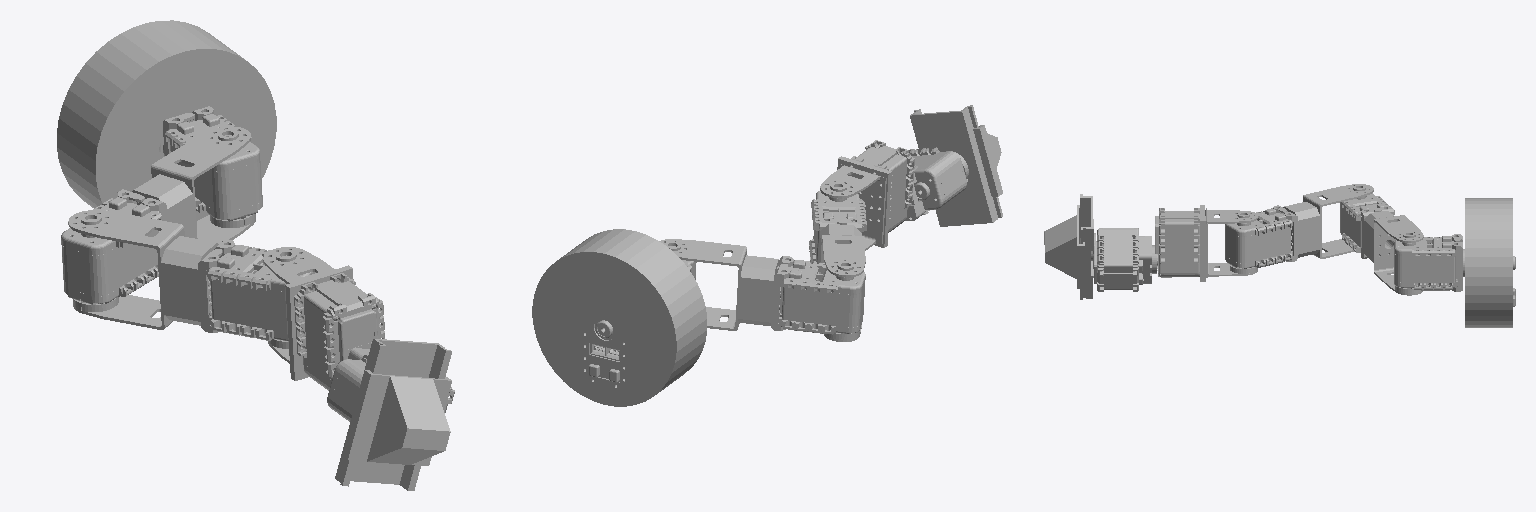
robot.urdf — HUSSEIN:
<?xml version="1.0" encoding="utf-8"?>
<!-- This URDF was automatically created by SolidWorks to URDF Exporter! Originally created by Stephen Brawner (brawner@gmail.com) 
     Commit Version: 1.6.0-4-g7f85cfe  Build Version: 1.6.7995.38578
     For more information, please see http://wiki.ros.org/sw_urdf_exporter -->
<robot
  name="HUSSEIN">
  <link
    name="BASE">
    <inertial>
      <origin
        xyz="0.0021013 -0.0085471 -0.018871"
        rpy="0 0 0" />
      <mass
        value="0.06306" />
      <inertia
        ixx="3.4483E-05"
        ixy="2.394E-08"
        ixz="-7.0995E-09"
        iyy="1.5289E-05"
        iyz="3.1071E-07"
        izz="3.2674E-05" />
    </inertial>
    <visual>
      <origin
        xyz="0 0 0"
        rpy="0 0 0" />
      <geometry>
        <mesh
          filename="package://HUSSEIN/meshes/BASE.STL" />
      </geometry>
      <material
        name="">
        <color
          rgba="0.75294 0.75294 0.75294 1" />
      </material>
    </visual>
    <collision>
      <origin
        xyz="0 0 0"
        rpy="0 0 0" />
      <geometry>
        <mesh
          filename="package://HUSSEIN/meshes/BASE.STL" />
      </geometry>
    </collision>
  </link>
  <link
    name="SHOULDER">
    <inertial>
      <origin
        xyz="-2.95779799797177E-05 0.0269115186751801 0.000935763175241329"
        rpy="0 0 0" />
      <mass
        value="0.0459988233867464" />
      <inertia
        ixx="1.19980788881227E-05"
        ixy="-1.01847363113016E-08"
        ixz="1.49862389961452E-09"
        iyy="6.96713132976361E-06"
        iyz="1.90997328451324E-07"
        izz="1.02140084143326E-05" />
    </inertial>
    <visual>
      <origin
        xyz="0 0 0"
        rpy="0 0 0" />
      <geometry>
        <mesh
          filename="package://HUSSEIN/meshes/SHOULDER.STL" />
      </geometry>
      <material
        name="">
        <color
          rgba="0.752941176470588 0.752941176470588 0.752941176470588 1" />
      </material>
    </visual>
    <collision>
      <origin
        xyz="0 0 0"
        rpy="0 0 0" />
      <geometry>
        <mesh
          filename="package://HUSSEIN/meshes/SHOULDER.STL" />
      </geometry>
    </collision>
  </link>
  <joint
    name="BASE"
    type="revolute">
    <origin
      xyz="0 0 0"
      rpy="3.1416 -0.060146 0" />
    <parent
      link="BASE" />
    <child
      link="SHOULDER" />
    <axis
      xyz="0 1 0" />
    <limit
      lower="0"
      upper="5.2"
      effort="0"
      velocity="0" />
  </joint>
  <link
    name="ELBOW">
    <inertial>
      <origin
        xyz="-1.96233611012495E-05 0.0725175856715871 0.000544138908815472"
        rpy="0 0 0" />
      <mass
        value="0.0693327397963304" />
      <inertia
        ixx="2.21022106090659E-05"
        ixy="-1.01848777081293E-08"
        ixz="1.49861061128244E-09"
        iyy="1.4328943296584E-05"
        iyz="1.90997254980255E-07"
        izz="1.53577421041921E-05" />
    </inertial>
    <visual>
      <origin
        xyz="0 0 0"
        rpy="0 0 0" />
      <geometry>
        <mesh
          filename="package://HUSSEIN/meshes/ELBOW.STL" />
      </geometry>
      <material
        name="">
        <color
          rgba="0.752941176470588 0.752941176470588 0.752941176470588 1" />
      </material>
    </visual>
    <collision>
      <origin
        xyz="0 0 0"
        rpy="0 0 0" />
      <geometry>
        <mesh
          filename="package://HUSSEIN/meshes/ELBOW.STL" />
      </geometry>
    </collision>
  </link>
  <joint
    name="SHOULDER"
    type="revolute">
    <origin
      xyz="0 0.0415 0"
      rpy="0 0 1.1965" />
    <parent
      link="SHOULDER" />
    <child
      link="ELBOW" />
    <axis
      xyz="0 0 1" />
    <limit
      lower="0"
      upper="5.2"
      effort="0"
      velocity="0" />
  </joint>
  <link
    name="WRIST_PITCH">
    <inertial>
      <origin
        xyz="-1.96234885152524E-05 0.0725175857065122 0.000544138947018986"
        rpy="0 0 0" />
      <mass
        value="0.0693327400959451" />
      <inertia
        ixx="2.21022105714032E-05"
        ixy="-1.01848186468406E-08"
        ixz="1.49863823799297E-09"
        iyy="1.43289433428069E-05"
        iyz="1.90997217857999E-07"
        izz="1.53577419492212E-05" />
    </inertial>
    <visual>
      <origin
        xyz="0 0 0"
        rpy="0 0 0" />
      <geometry>
        <mesh
          filename="package://HUSSEIN/meshes/WRIST_PITCH.STL" />
      </geometry>
      <material
        name="">
        <color
          rgba="0.752941176470588 0.752941176470588 0.752941176470588 1" />
      </material>
    </visual>
    <collision>
      <origin
        xyz="0 0 0"
        rpy="0 0 0" />
      <geometry>
        <mesh
          filename="package://HUSSEIN/meshes/WRIST_PITCH.STL" />
      </geometry>
    </collision>
  </link>
  <joint
    name="ELBOW"
    type="revolute">
    <origin
      xyz="0 0.105 0"
      rpy="0 0 -1.7617" />
    <parent
      link="ELBOW" />
    <child
      link="WRIST_PITCH" />
    <axis
      xyz="0 0 1" />
    <limit
      lower="0"
      upper="5.2"
      effort="0"
      velocity="0" />
  </joint>
  <link
    name="WRITS_ROLL">
    <inertial>
      <origin
        xyz="0.00053178945767566 0.0429306608531656 -2.25160036825475E-05"
        rpy="0 0 0" />
      <mass
        value="0.0579314580219943" />
      <inertia
        ixx="9.18901970597092E-06"
        ixy="1.86151057563902E-07"
        ixz="-1.03128223844021E-08"
        iyy="1.582799845249E-05"
        iyz="1.49859148213519E-09"
        izz="1.77886093805345E-05" />
    </inertial>
    <visual>
      <origin
        xyz="0 0 0"
        rpy="0 0 0" />
      <geometry>
        <mesh
          filename="package://HUSSEIN/meshes/WRITS_ROLL.STL" />
      </geometry>
      <material
        name="">
        <color
          rgba="0.752941176470588 0.752941176470588 0.752941176470588 1" />
      </material>
    </visual>
    <collision>
      <origin
        xyz="0 0 0"
        rpy="0 0 0" />
      <geometry>
        <mesh
          filename="package://HUSSEIN/meshes/WRITS_ROLL.STL" />
      </geometry>
    </collision>
  </link>
  <joint
    name="PITCH"
    type="revolute">
    <origin
      xyz="0 0.105 0"
      rpy="-0.91272 -1.5708 1.4738" />
    <parent
      link="WRIST_PITCH" />
    <child
      link="WRITS_ROLL" />
    <axis
      xyz="1 0 0" />
    <limit
      lower="0"
      upper="5.2"
      effort="0"
      velocity="0" />
  </joint>
  <link
    name="END_EFFECTOR">
    <inertial>
      <origin
        xyz="-1.78940336686279E-05 0.0064856090978529 0.0386604508304883"
        rpy="0 0 0" />
      <mass
        value="0.0728944845262852" />
      <inertia
        ixx="1.6424138732261E-05"
        ixy="-1.03129699392518E-08"
        ixz="1.4986258470439E-09"
        iyy="1.19399618389016E-05"
        iyz="2.02586779968553E-07"
        izz="1.79577755907799E-05" />
    </inertial>
    <visual>
      <origin
        xyz="0 0 0"
        rpy="0 0 0" />
      <geometry>
        <mesh
          filename="package://HUSSEIN/meshes/END_EFFECTOR.STL" />
      </geometry>
      <material
        name="">
        <color
          rgba="0.752941176470588 0.752941176470588 0.752941176470588 1" />
      </material>
    </visual>
    <collision>
      <origin
        xyz="0 0 0"
        rpy="0 0 0" />
      <geometry>
        <mesh
          filename="package://HUSSEIN/meshes/END_EFFECTOR.STL" />
      </geometry>
    </collision>
  </link>
  <joint
    name="ROLL"
    type="revolute">
    <origin
      xyz="0.0135 0.0705 0"
      rpy="1.5708 0.35769 3.1416" />
    <parent
      link="WRITS_ROLL" />
    <child
      link="END_EFFECTOR" />
    <axis
      xyz="0 0 1" />
    <limit
      lower="0"
      upper="5.2"
      effort="0"
      velocity="0" />
  </joint>
</robot>

--- Render facts (derived) ---
Views: 3 orthographic renders of the robot side by side, from view 1: azimuth 30°, elevation 25°; view 2: azimuth 150°, elevation 25°; view 3: azimuth 270°, elevation 25°.
Model HUSSEIN with 6 links and 5 joints (5 revolute), rooted at BASE, posed all joints at 0.
Links seen in each view (by area): view 1: BASE, WRIST_PITCH, END_EFFECTOR, ELBOW, WRITS_ROLL, SHOULDER; view 2: BASE, ELBOW, END_EFFECTOR, WRITS_ROLL, WRIST_PITCH; view 3: END_EFFECTOR, WRIST_PITCH, BASE, WRITS_ROLL, ELBOW, SHOULDER.
Link boxes in pixels (x1,y1,x2,y2): BASE: [57, 20, 276, 220]; WRIST_PITCH: [68, 210, 315, 348]; END_EFFECTOR: [327, 339, 454, 490]; ELBOW: [61, 126, 255, 311]; WRITS_ROLL: [263, 247, 384, 390]; SHOULDER: [163, 106, 262, 227]; BASE: [532, 229, 706, 406]; ELBOW: [659, 239, 865, 339]; END_EFFECTOR: [903, 105, 1002, 226]; WRITS_ROLL: [820, 140, 914, 250]; WRIST_PITCH: [809, 191, 866, 341]; END_EFFECTOR: [1044, 194, 1151, 299]; WRIST_PITCH: [1225, 184, 1373, 273]; BASE: [1463, 198, 1515, 327]; WRITS_ROLL: [1152, 205, 1257, 281]; ELBOW: [1340, 193, 1423, 295]; SHOULDER: [1394, 234, 1462, 293].
Size in the robot's own frame: 0.1619 by 0.3617 by 0.1022 metres.
6 mesh visuals loaded from 6 distinct referenced files (6 binary STL).
